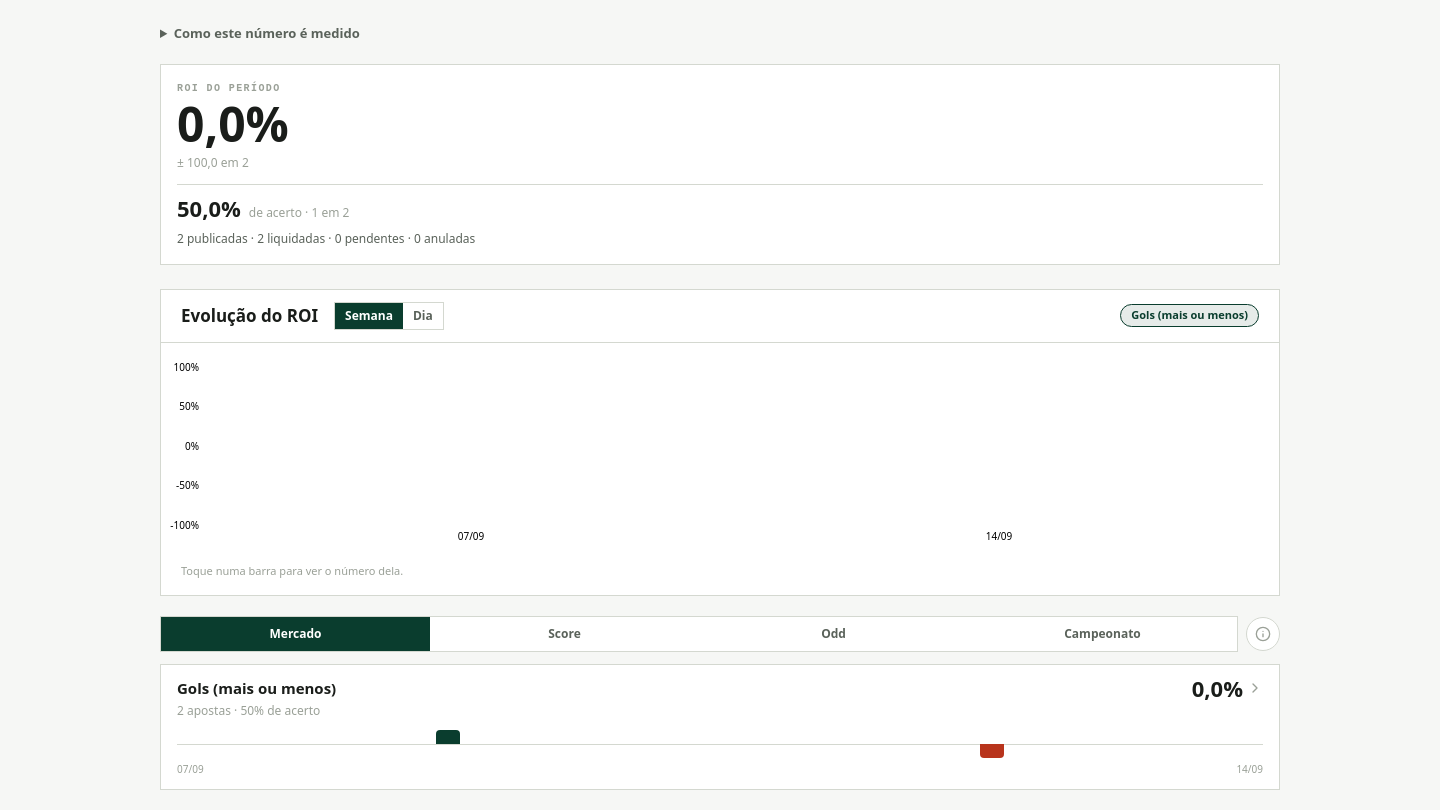
a ficha da linha › tocar no cartão abre a ficha, com o tempo correndo para baixo e o mais recente primeiro
Click the 9th button.
click(257, 688)  # box [160, 664, 1280, 790]
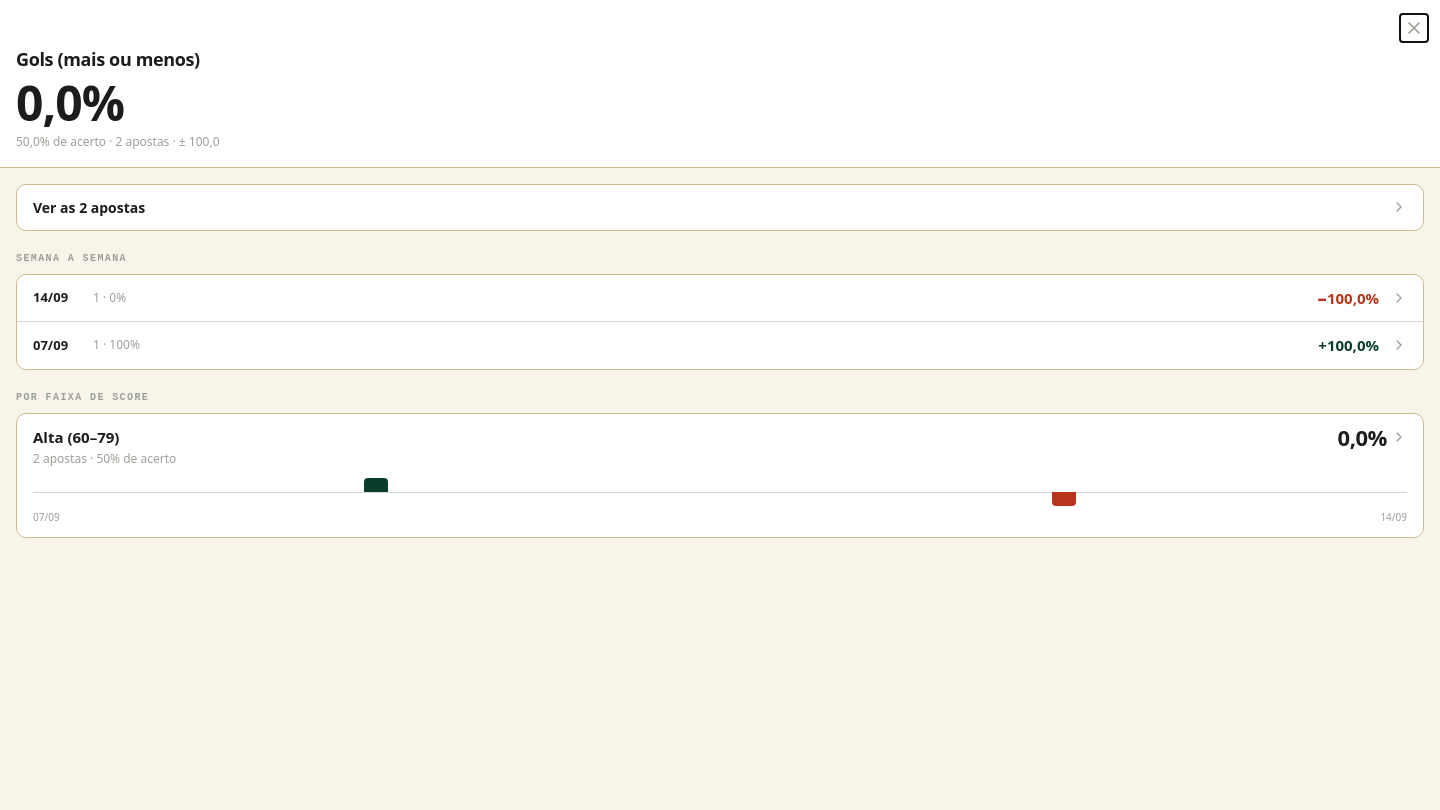
Check: the dialog shows "Semana a semana", box [16, 252, 127, 264]
Check: the button "14/09 1 · 0% −100,0%" is shown, box [17, 274, 1423, 321]
Check: the button "07/09 1 · 100% +100,0%" is shown, box [17, 322, 1423, 368]
